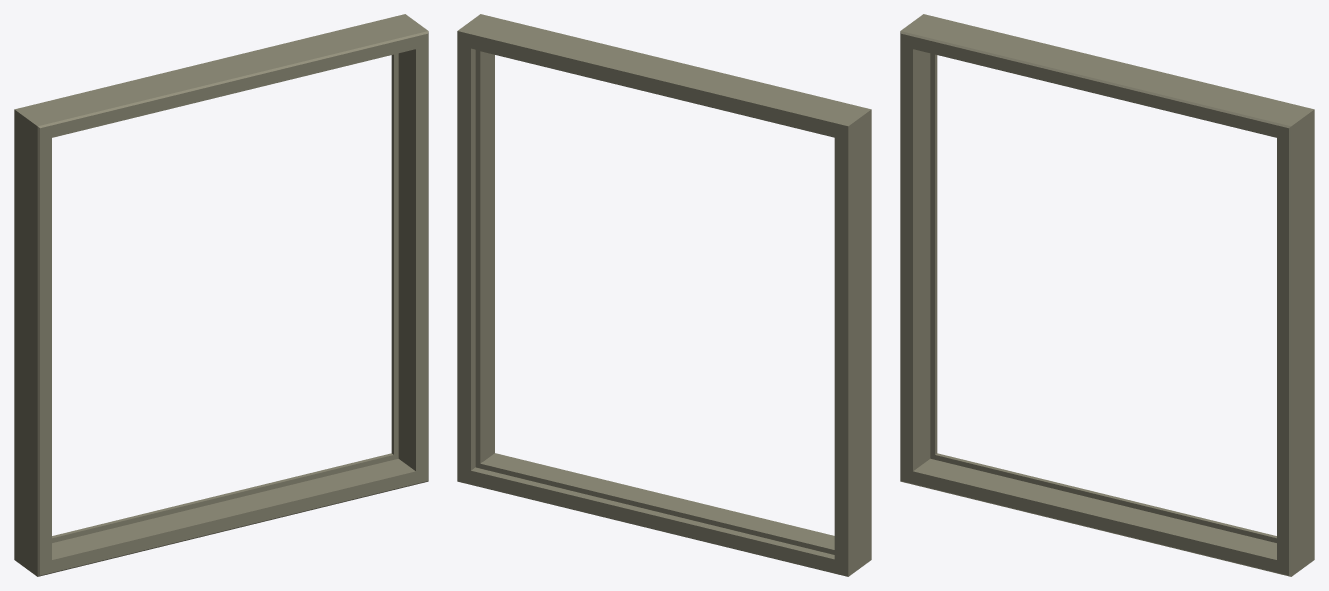
File: cedar-source-window-surround.lod1.glb
3 renders of one model, left to right at view 1: azimuth 30°, elevation 25°; view 2: azimuth 150°, elevation 25°; view 3: azimuth 330°, elevation 25°, orthographic.
Visible parts, largest first — view 1: window-frame; view 2: window-frame; view 3: window-frame.
Part boxes in pixels (x1,y1,x2,y2): window-frame: (14, 14, 428, 576); window-frame: (457, 14, 871, 576); window-frame: (900, 14, 1314, 576).
Bounding box in the file's own units: 1.5 × 1.65 × 0.16.
